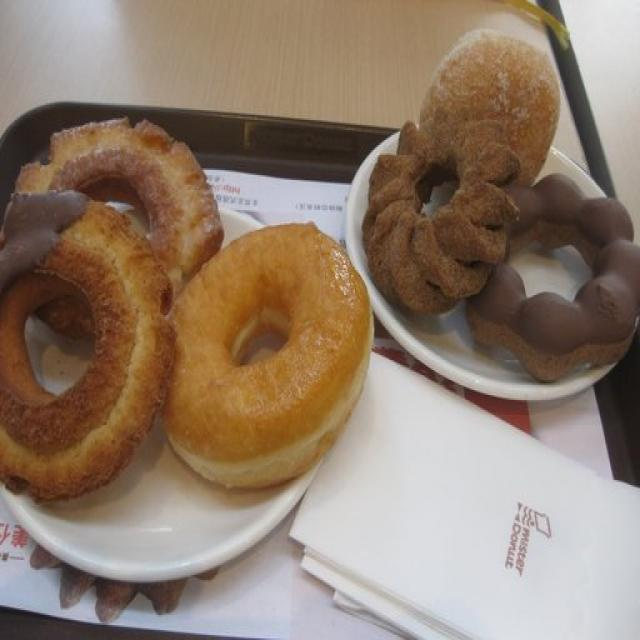Donuts: (6, 44, 640, 514)
